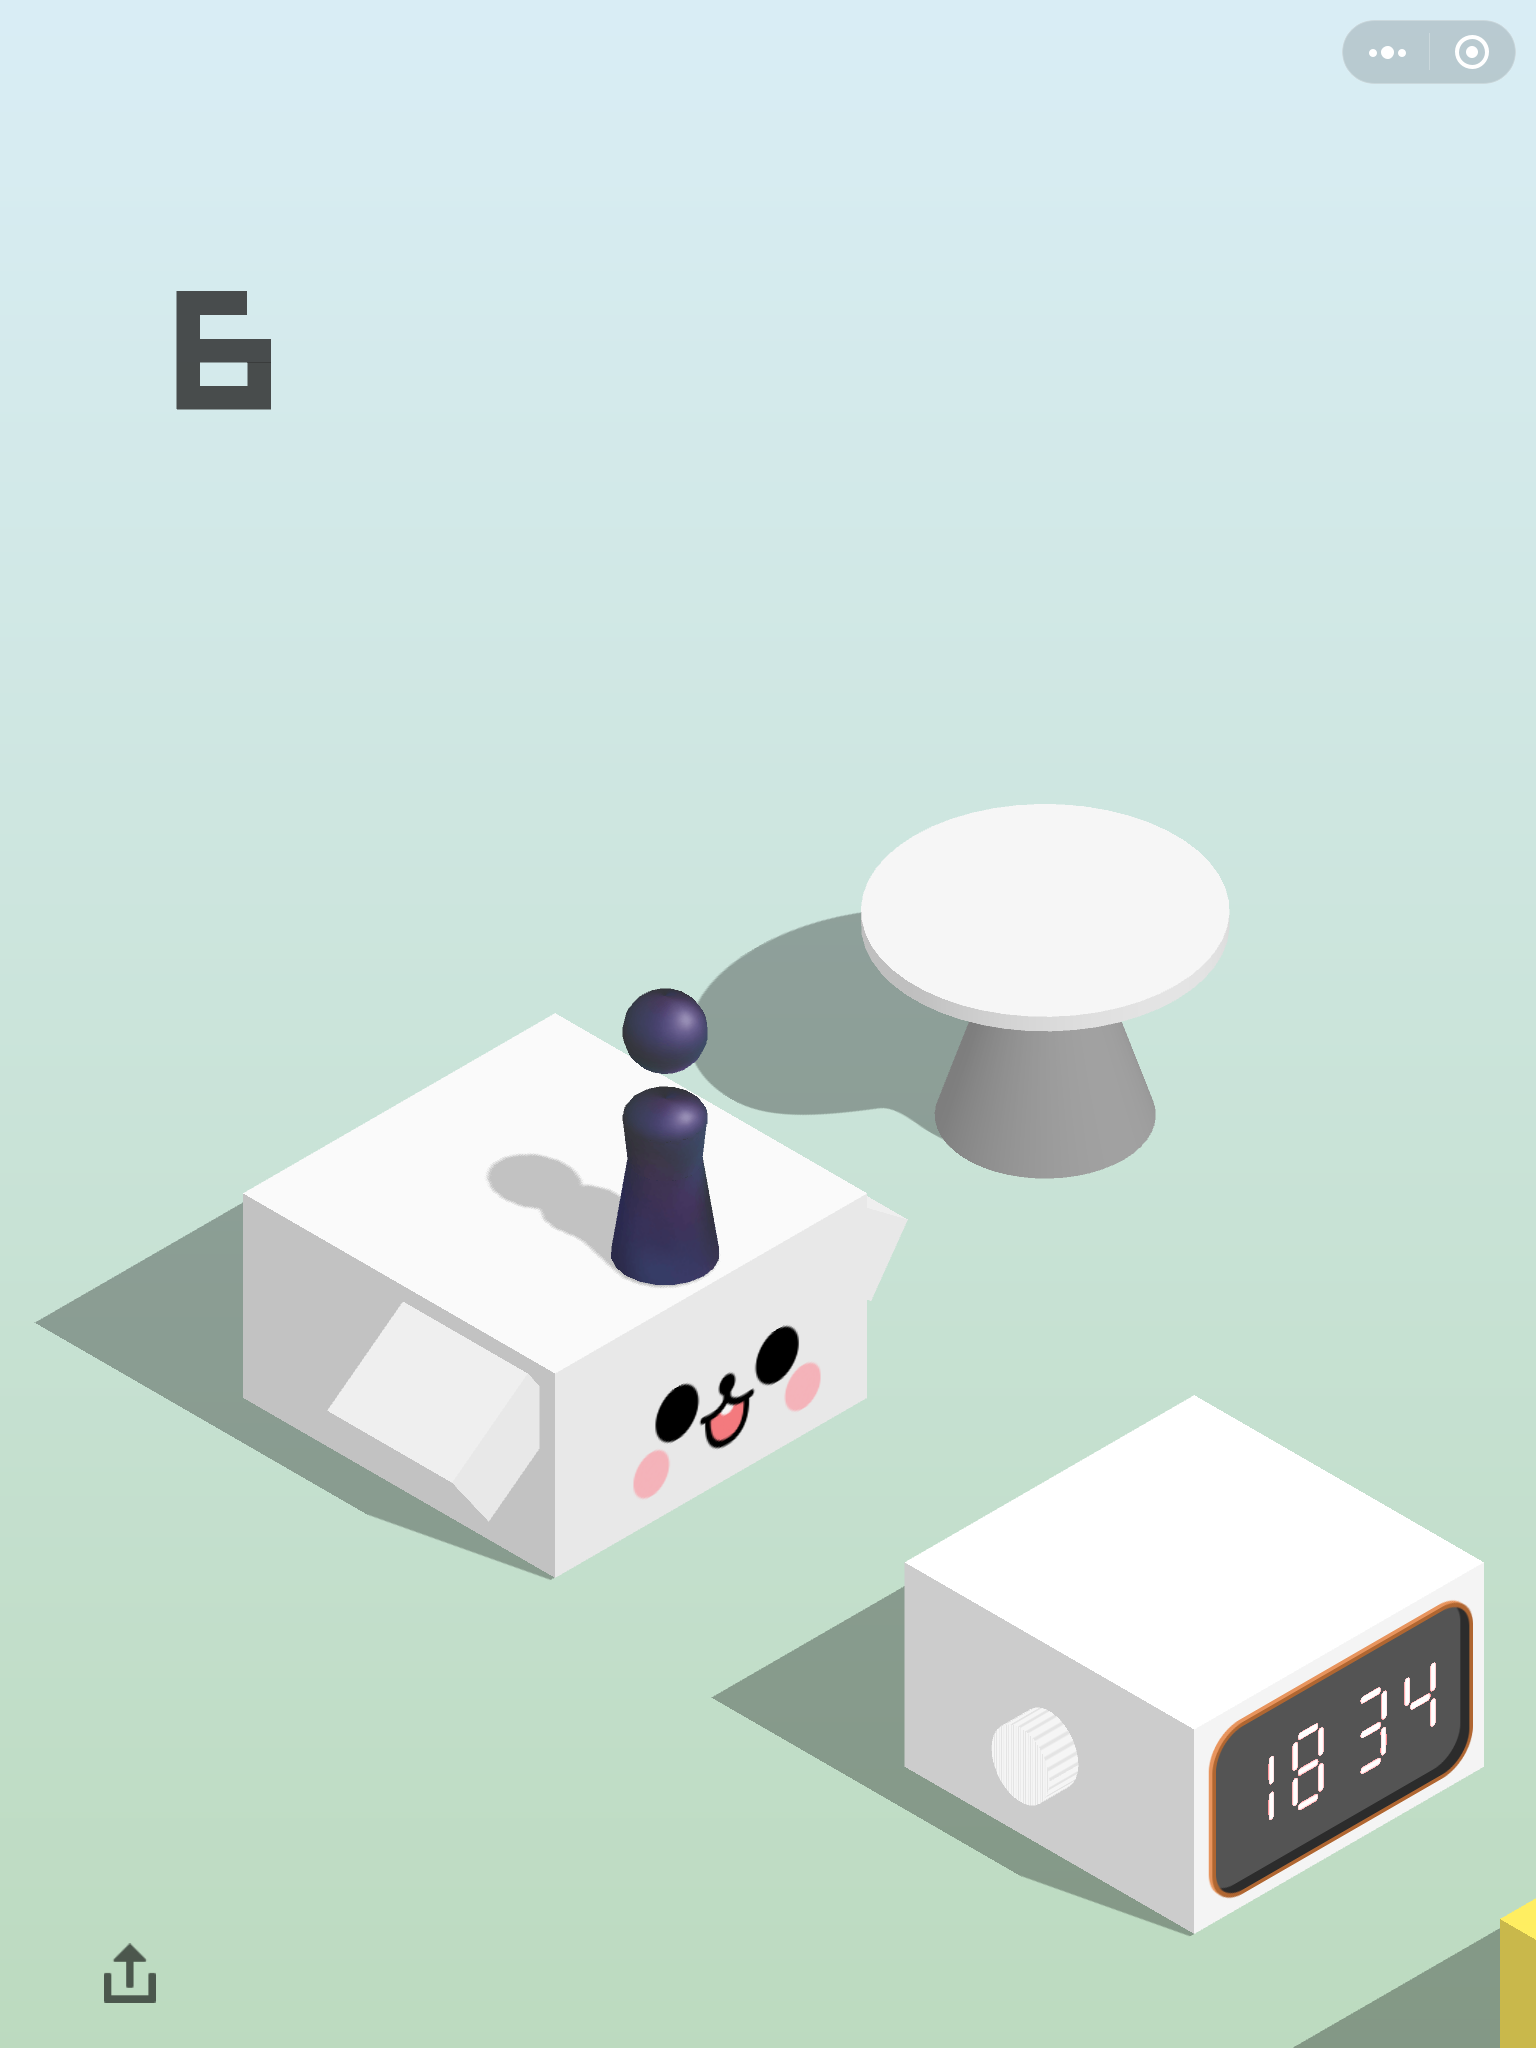c: (850, 793, 1238, 1188)
f: (236, 1009, 908, 1580), (899, 1388, 1492, 1938)
r: (603, 984, 726, 1292)
